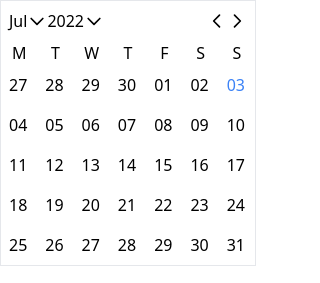
Test: Calendar › changes and displays next month
The image size is (320, 283).
Click the button with test id "nextMonth": (237, 21) 227,11 -> 247,31
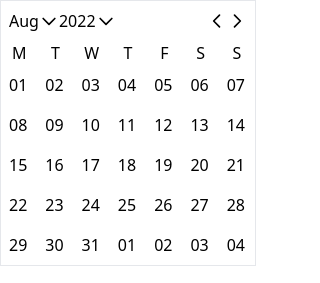
Expected: the heading "Aug 2022" is shown, 9,9 -> 116,33
